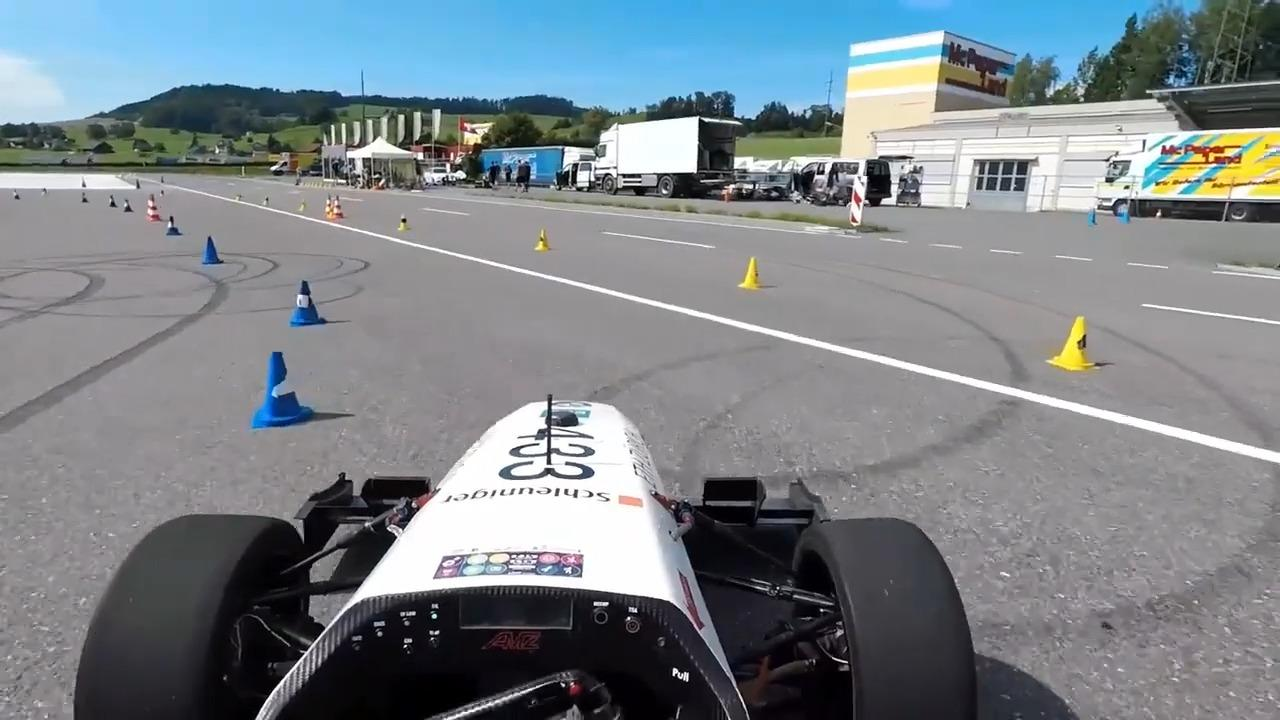blue_cone: (249, 350, 314, 429), (289, 281, 327, 328), (200, 235, 226, 266), (164, 214, 182, 237)
large_orange_cone: (147, 193, 163, 223), (331, 195, 345, 220), (324, 194, 336, 217)
yellow_cone: (1046, 314, 1101, 373), (738, 256, 768, 291), (536, 227, 552, 251), (398, 212, 412, 231)
